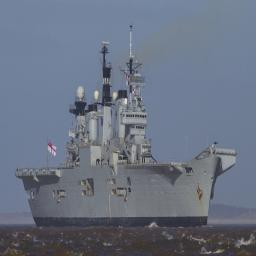Portanaves: (13, 21, 239, 231)
